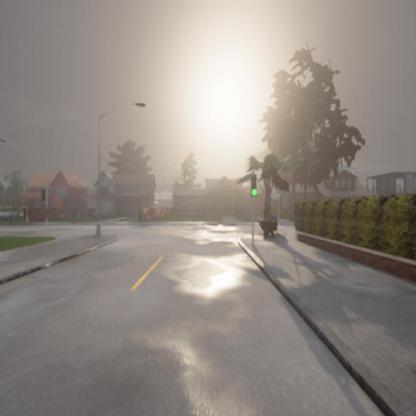traffic_light_green: (250, 172, 259, 195)
